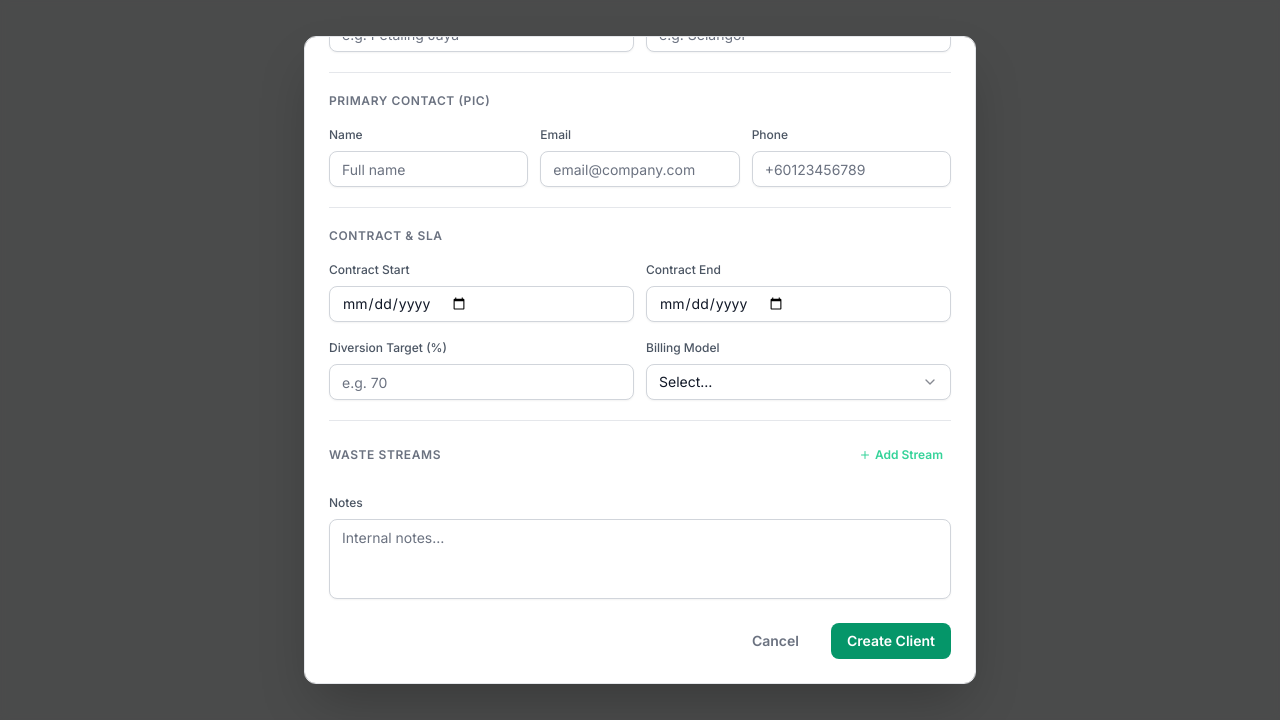
ClientForm — Waste Streams › adds a waste stream when Add Stream is clicked
(page scrolled)
Click the button "Add Stream": [901, 455] box [851,441,951,469]
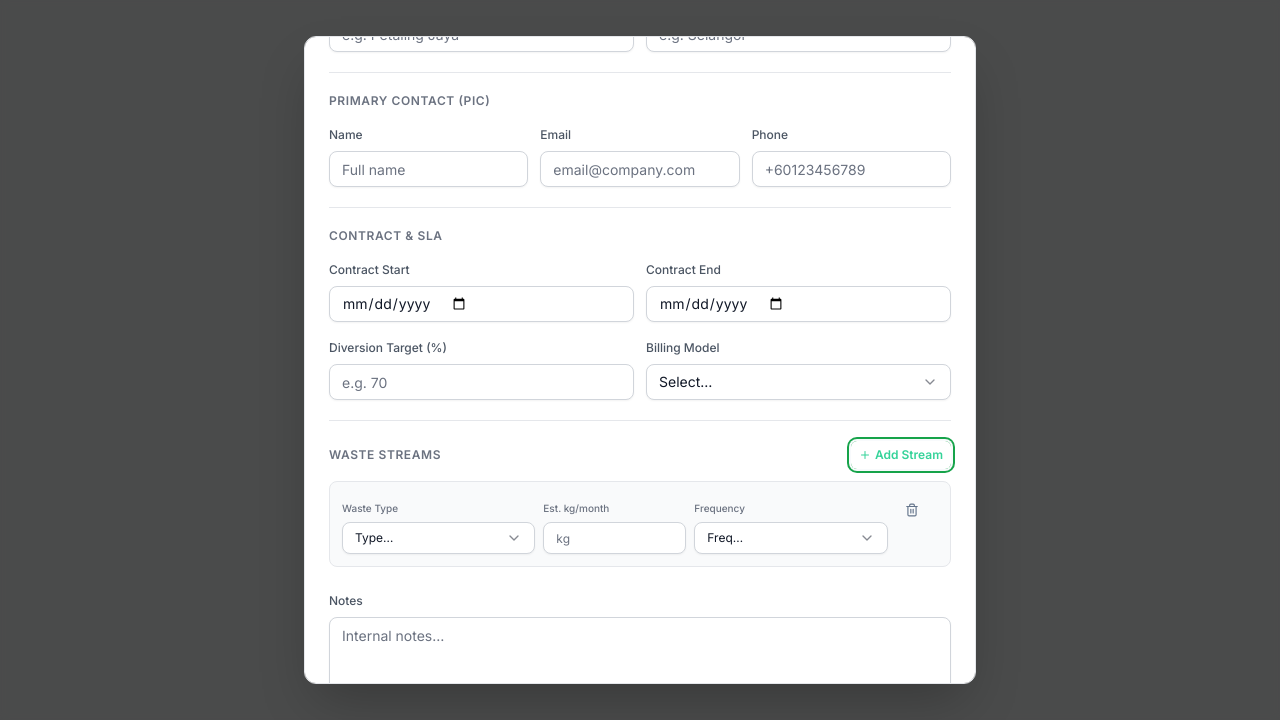
Result: the text "Waste Type" is shown at [342,502,398,514]
Result: the text "Est. kg/month" is shown at [543,502,609,514]
Result: the text "Frequency" is shown at [694,502,745,514]
